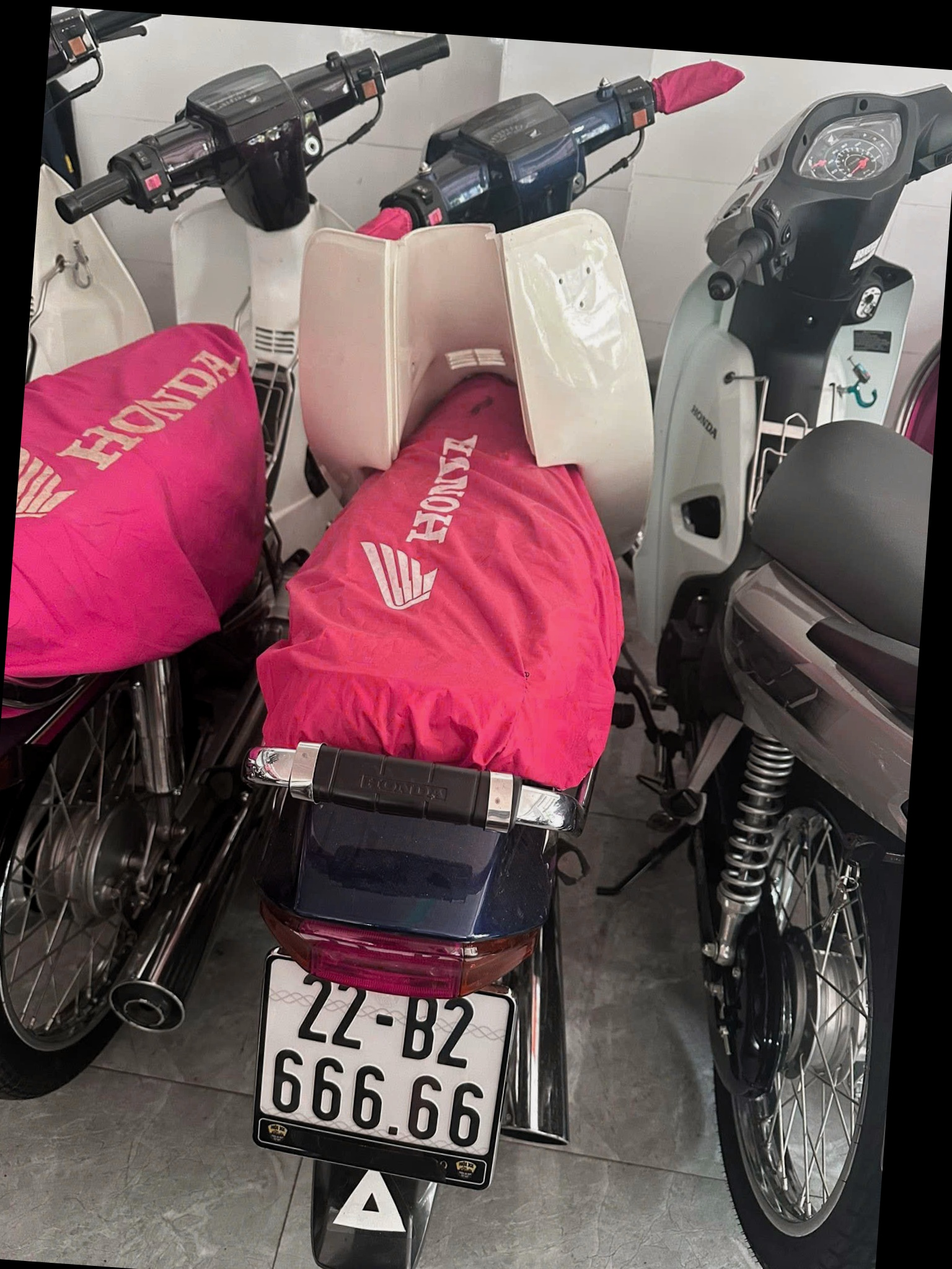Bien-so: (275, 919, 549, 1108)
